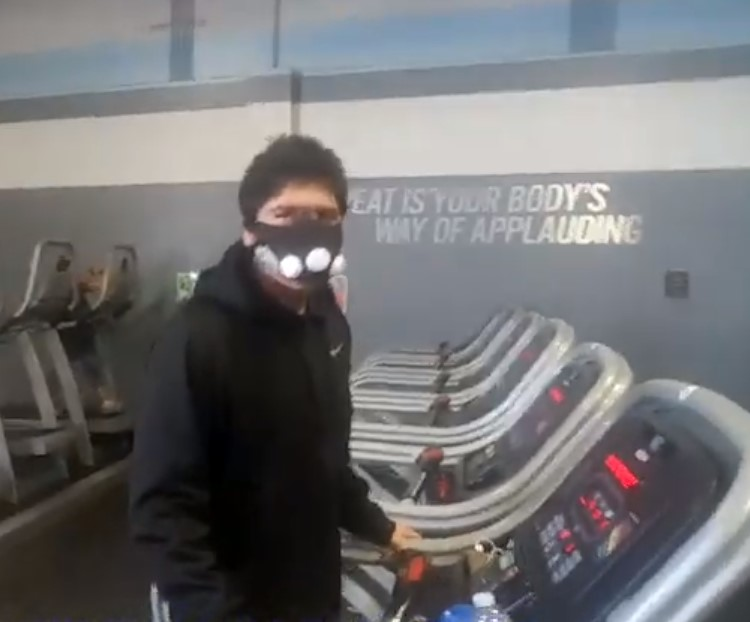face_with_mask: (239, 146, 349, 301)
